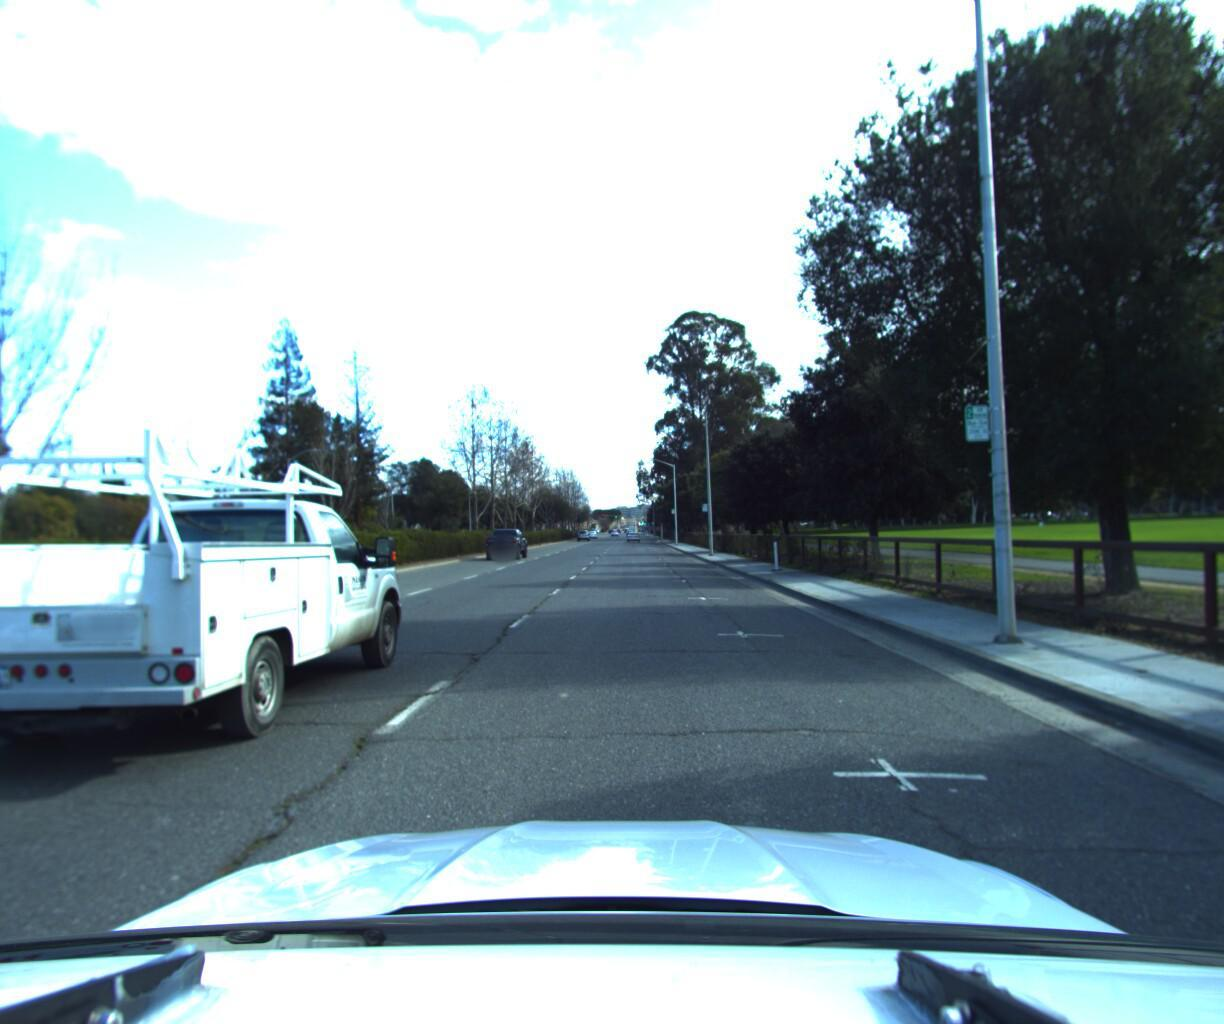car: (0, 416, 426, 795), (482, 525, 529, 558)
